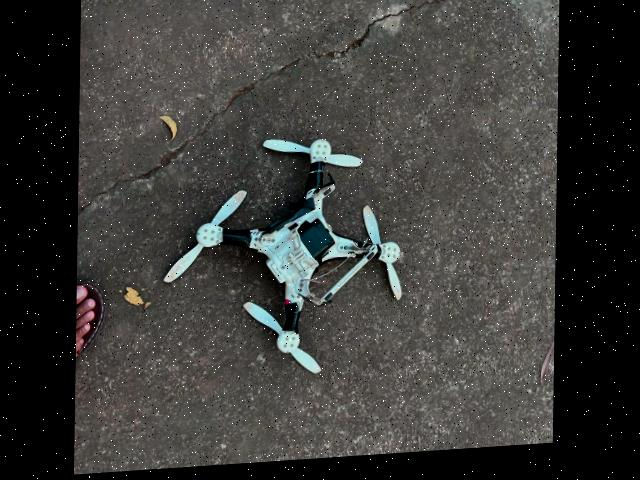drone: (144, 22, 449, 468)
